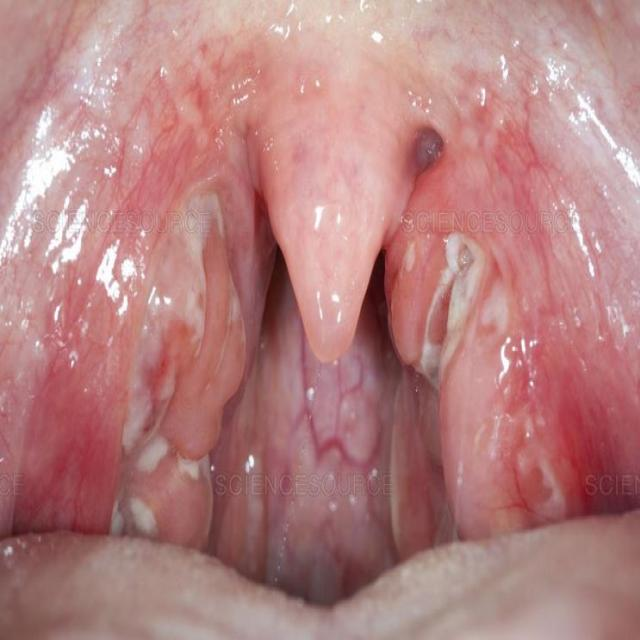pharyngitis: (403, 224, 604, 551), (116, 172, 255, 549), (280, 298, 380, 533)
